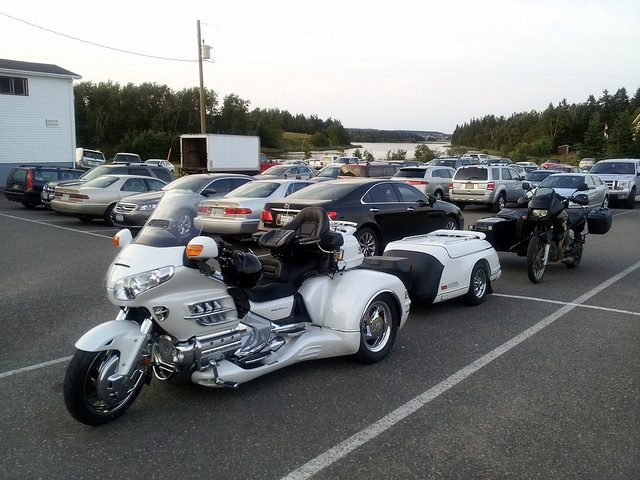non-vehicle: (66, 189, 408, 371), (359, 227, 510, 302), (522, 182, 591, 281), (466, 205, 527, 256)
